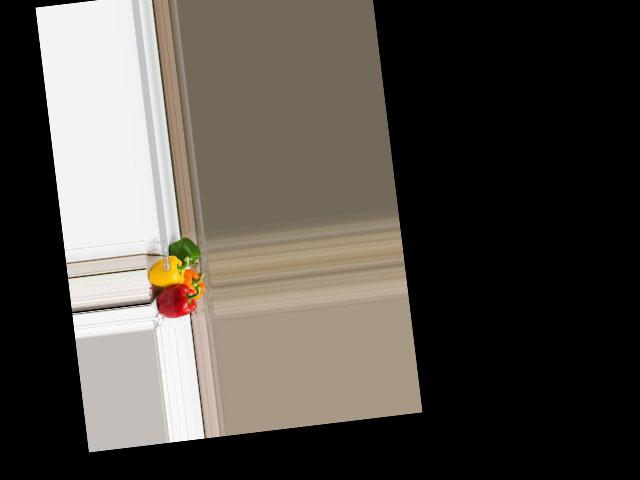bell_pepper: (180, 266, 206, 301)
